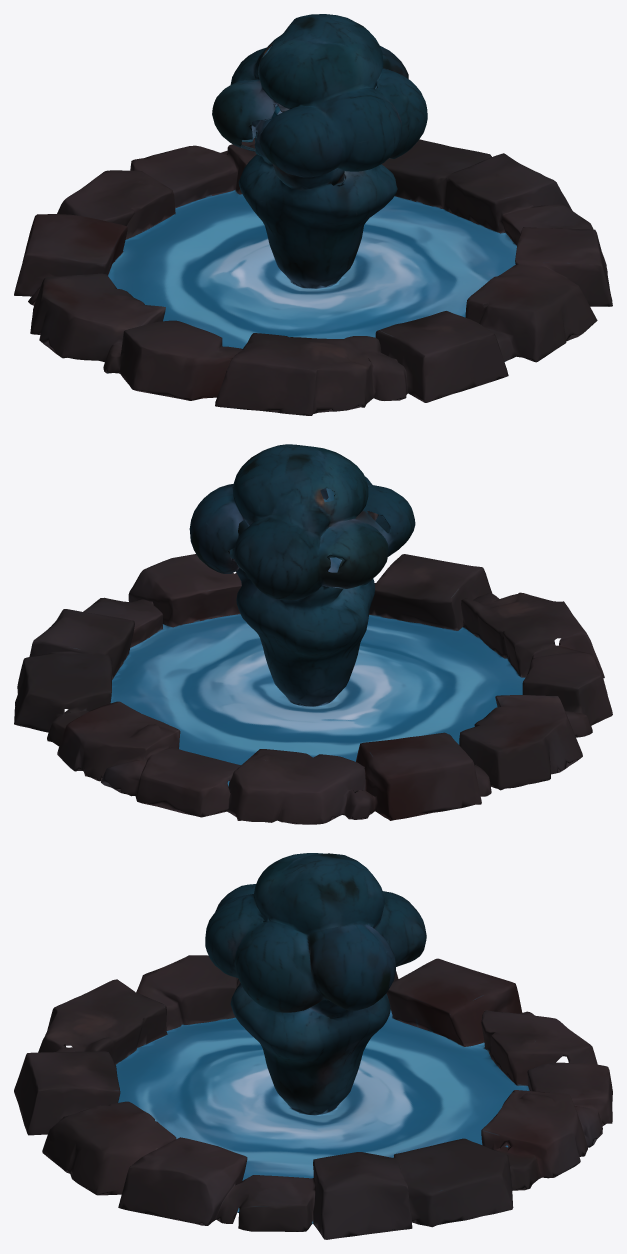
File: geyser_t1.glb
3 renders of one model, top to bottom at view 1: azimuth 30°, elevation 25°; view 2: azimuth 150°, elevation 25°; view 3: azimuth 270°, elevation 25°, orthographic. The views are drawn at different scales.
Visible parts, largest first — view 1: geometry_0; view 2: geometry_0; view 3: geometry_0.
Boxes of the visible parts, x1,y1,x2,y2 form: geometry_0: [14, 14, 612, 415]; geometry_0: [14, 444, 612, 824]; geometry_0: [14, 853, 612, 1239].
Size of the model in its own units: 0.999 by 0.4676 by 0.9726.
1 material, 1 textured.
